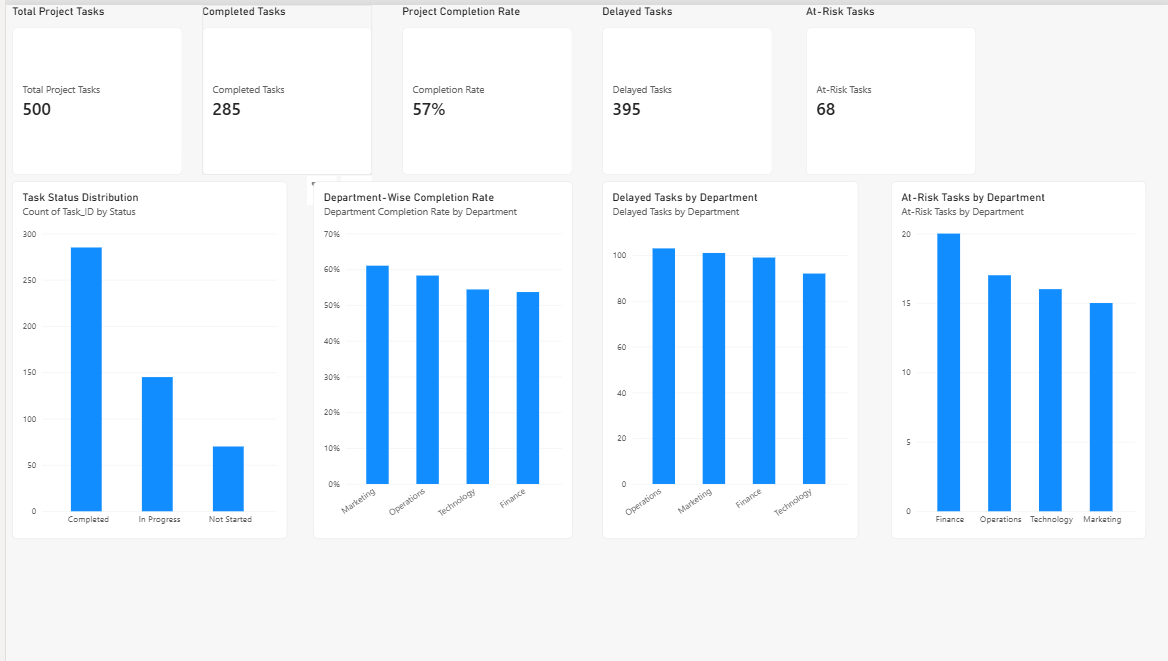

The dashboard page shown, as its layout file describes it:
{"tool":"powerbi","page":{"name":"Page 1","canvas":[1920,1080],"ordinal":0},"visuals":[{"type":"cardVisual","title":"Total Project Tasks","fields":{"Data":["project_tasks.Total Project Tasks"]},"box":[10,0,280,280],"z":0},{"type":"cardVisual","title":"Completed Tasks","fields":{"Data":["project_tasks.Completed Tasks"]},"box":[323.2,0,280,280],"z":1},{"type":"cardVisual","title":"Project Completion Rate","fields":{"Data":["project_tasks.Completion Rate"]},"box":[652.5,0,280,280],"z":2},{"type":"cardVisual","title":"Delayed Tasks","fields":{"Data":["project_tasks.Delayed Tasks"]},"box":[981.8,0,280,280],"z":3},{"type":"cardVisual","title":"At-Risk Tasks","fields":{"Data":["project_tasks.At-Risk Tasks"]},"box":[1317.3,0,280,280],"z":4},{"type":"clusteredColumnChart","title":"Task Status Distribution","fields":{"Category":["project_tasks.Status"],"Y":["CountNonNull(project_tasks.Task_ID)"]},"box":[10.3,290.2,452.8,588.7],"z":5},{"type":"clusteredColumnChart","title":"Department-Wise Completion Rate","fields":{"Category":["project_tasks.Department"],"Y":["project_tasks.Department Completion Rate"]},"box":[506.3,290.2,426.1,588.7],"z":6},{"type":"clusteredColumnChart","title":"Delayed Tasks by Department","fields":{"Category":["project_tasks.Department"],"Y":["project_tasks.Delayed Tasks"]},"box":[981.8,290.2,422,588.7],"z":7},{"type":"clusteredColumnChart","title":"At-Risk Tasks by Department","fields":{"Category":["project_tasks.Department"],"Y":["project_tasks.At-Risk Tasks"]},"box":[1457.3,290.2,419.9,588.7],"z":8}]}

Visuals, with their boxes in screenshot pixels (x1, y1, x2, y2), scaled from the page's 1920x1080 canvas onto the 1168x661 screenshot:
"Total Project Tasks" cardVisual: box=[6, 0, 176, 171]
"Completed Tasks" cardVisual: box=[197, 0, 367, 171]
"Project Completion Rate" cardVisual: box=[397, 0, 567, 171]
"Delayed Tasks" cardVisual: box=[597, 0, 768, 171]
"At-Risk Tasks" cardVisual: box=[801, 0, 972, 171]
"Task Status Distribution" clusteredColumnChart: box=[6, 178, 282, 538]
"Department-Wise Completion Rate" clusteredColumnChart: box=[308, 178, 567, 538]
"Delayed Tasks by Department" clusteredColumnChart: box=[597, 178, 854, 538]
"At-Risk Tasks by Department" clusteredColumnChart: box=[887, 178, 1142, 538]
